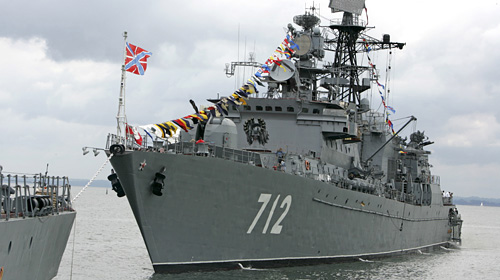warship: (86, 1, 465, 263)
